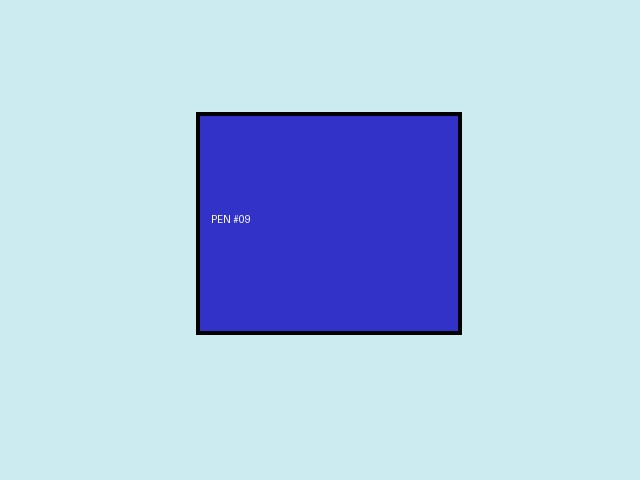pen: (196, 112, 461, 334)
